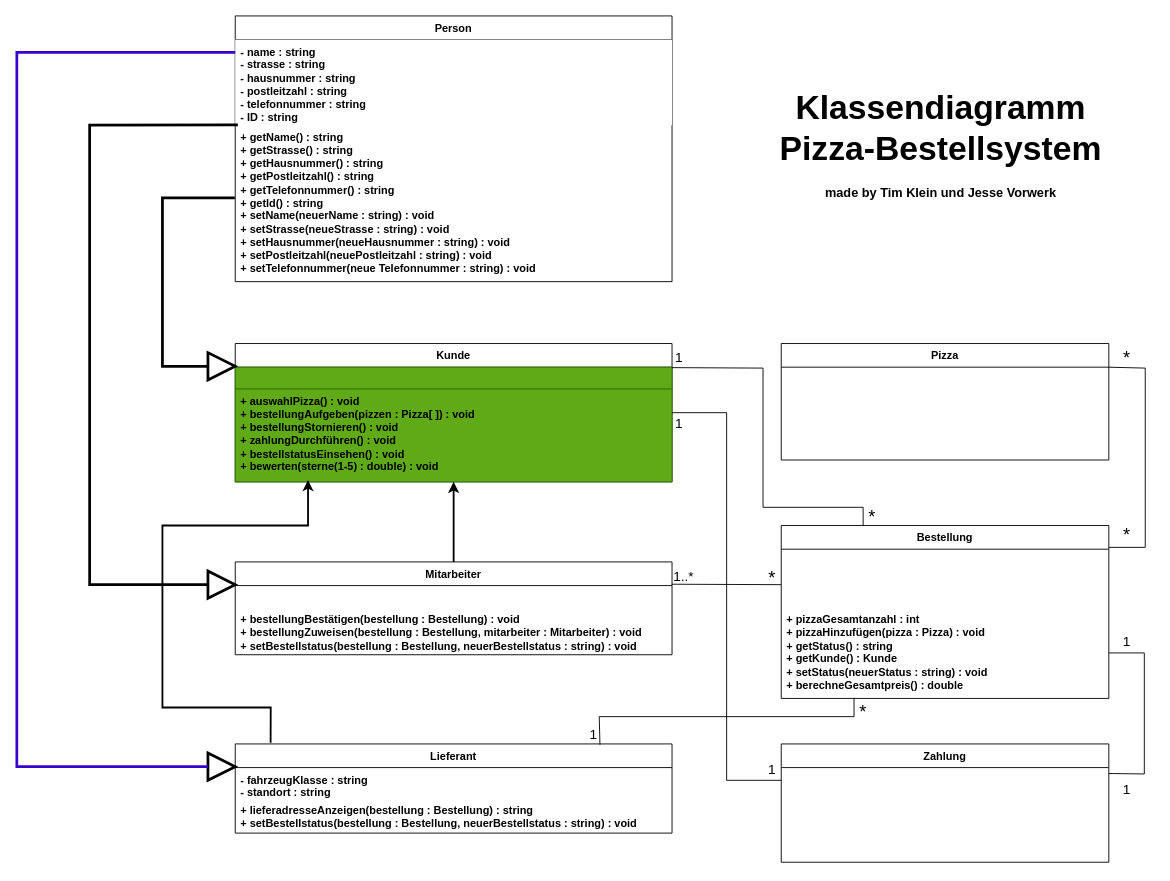
The diagram is 1170 pixels wide and 881 high, and some of its shapes have lost their labels. Here are the shapes that lost their labels. From the top down, the centre of each, then its label:
At (x=453, y=377): "- kundennummer : string".
At (x=944, y=397): "- pizzaId : string - name : string - groesse : string - preis : double".
At (x=944, y=443): "+ getName() : string + getPreis() : double".
At (x=453, y=596): "- mitarbeiternummer : string".
At (x=944, y=578): "- bestellnummer : string - pizzen : Pizza[ ] - datum : string - status : string".
At (x=944, y=796): "- zahlungId : string - betrag : double - zahlungsart : string - status : string".
At (x=944, y=843): "+ zahlungAusfuehren() : void + getStatus() : string".
